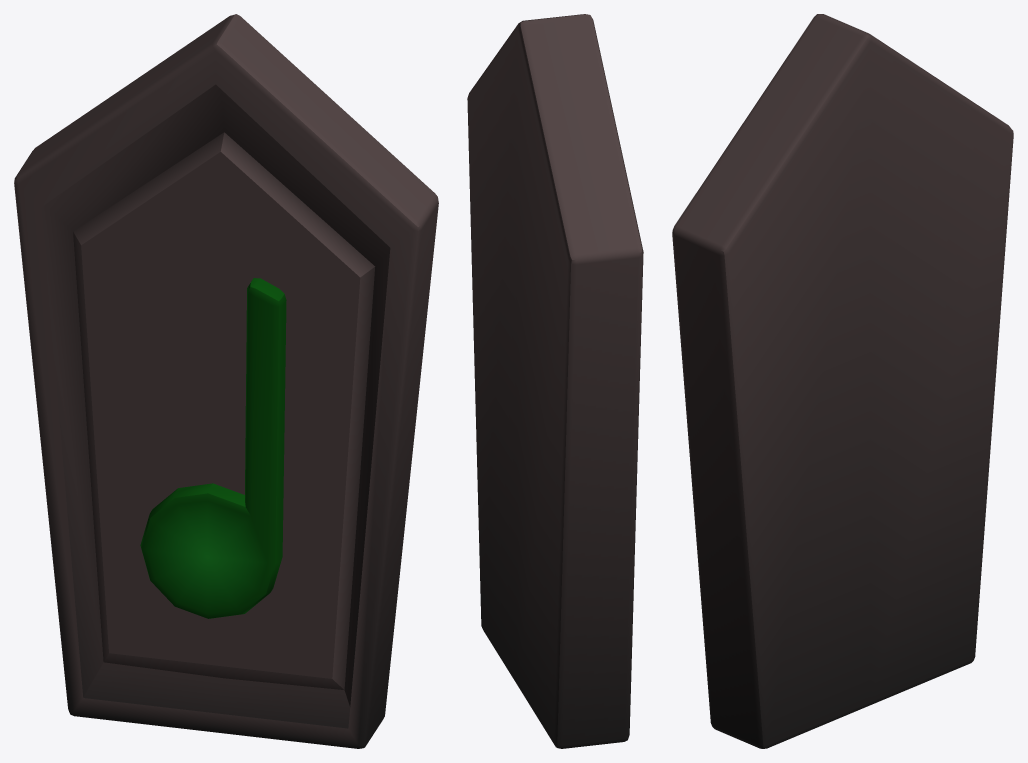
File: Grave Small.fbx
3 views of the same model, side by side, from view 1: azimuth 30°, elevation 25°; view 2: azimuth 150°, elevation 25°; view 3: azimuth 270°, elevation 25° (orthographic). The views are drawn at different scales.
Visible parts, largest first — view 1: polySurface195; view 2: polySurface195; view 3: polySurface195.
Part boxes in pixels (box(x1,y1,x2,y2)): polySurface195: box(14, 14, 438, 748); polySurface195: box(467, 14, 643, 748); polySurface195: box(672, 14, 1013, 748).
Size of the model in its own units: 0.9749 by 2.13 by 0.9818.
